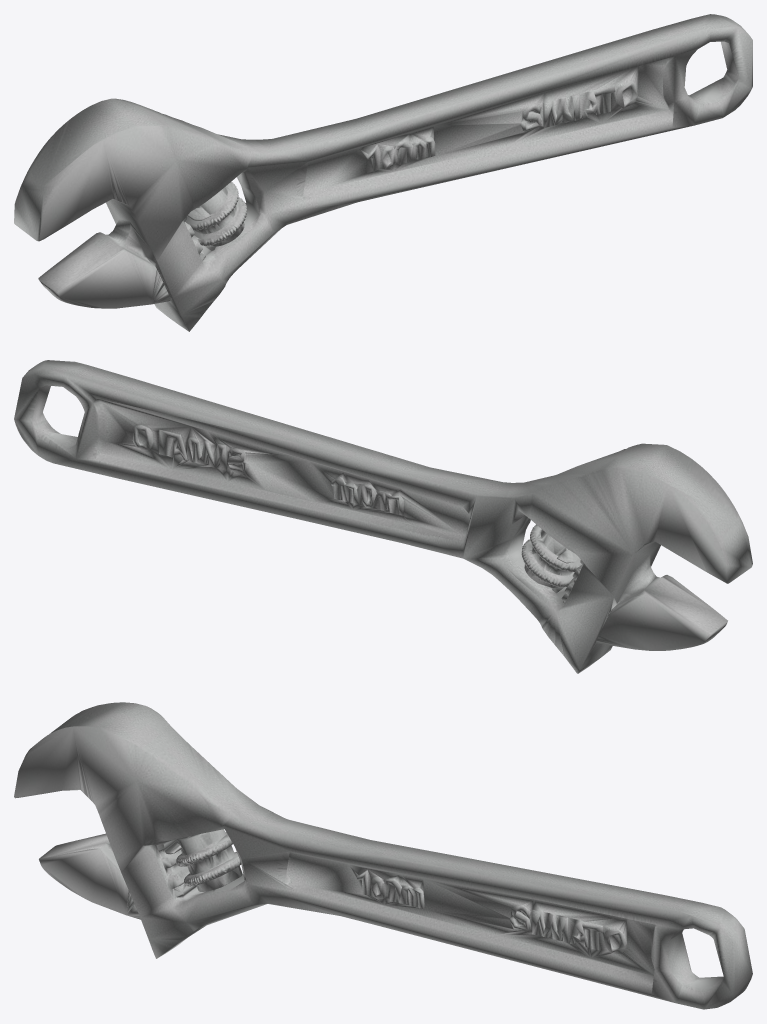
File: wrench.glb
The picture shows the model from 3 angles, top to bottom: view 1: azimuth 30°, elevation 25°; view 2: azimuth 150°, elevation 25°; view 3: azimuth 330°, elevation 25°; orthographic projection.
Size of the model in its own units: 1.89 by 0.5509 by 0.1762.
1 material, 1 textured.
